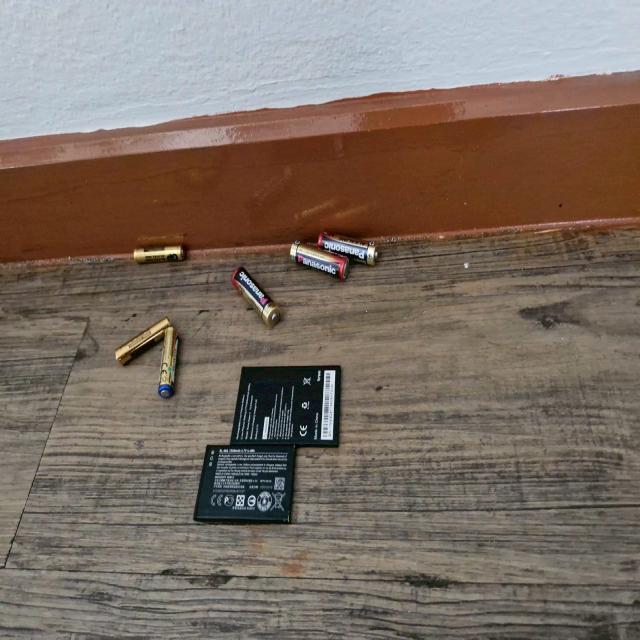battery: (187, 439, 295, 528), (231, 366, 341, 446)
